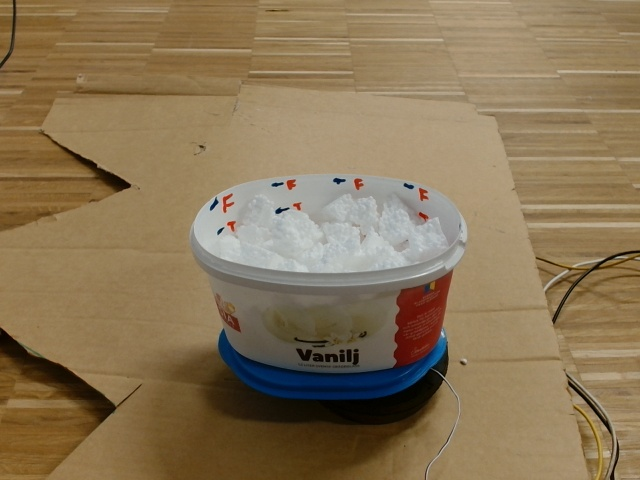Big_threequarter: (188, 173, 472, 289)
